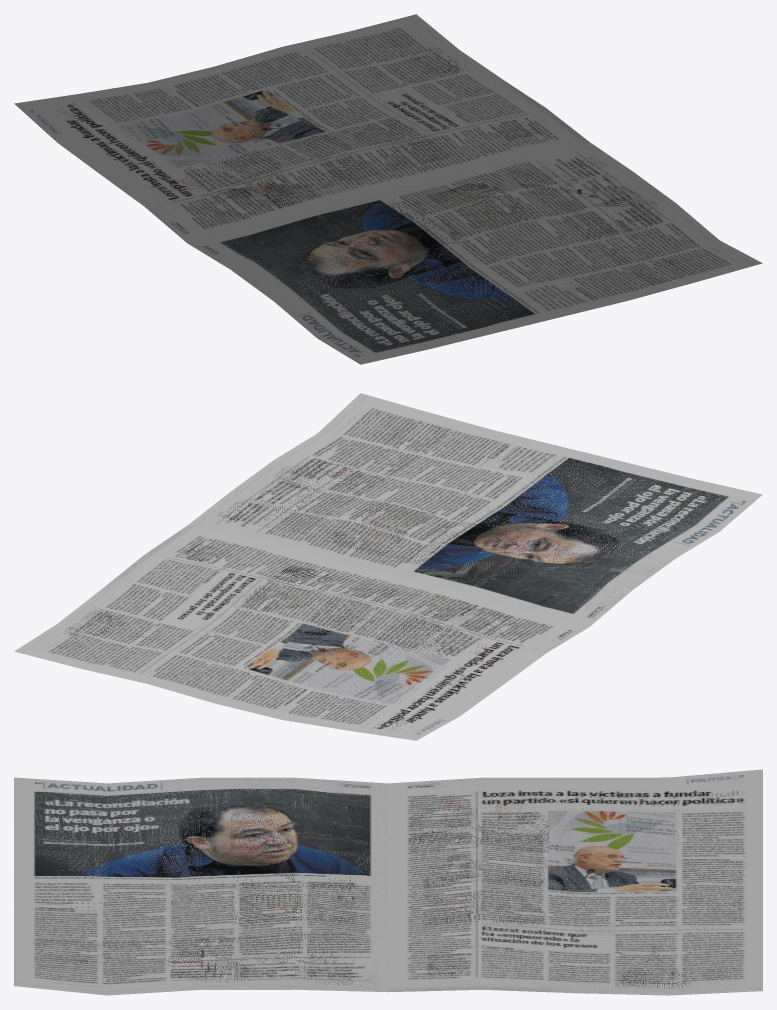
File: periodico.fbx
3 views of the same model, one above another, from view 1: azimuth 30°, elevation 25°; view 2: azimuth 150°, elevation 25°; view 3: azimuth 270°, elevation 25° (orthographic). The views are drawn at different scales.
Parts seen in each view (by area): view 1: periodico; view 2: periodico; view 3: periodico.
Boxes of the visible parts, x1,y1,x2,y2 form: periodico: (14, 14, 762, 364); periodico: (14, 393, 762, 740); periodico: (14, 769, 762, 995).
Size of the model in its own units: 31.5 by 0.9675 by 47.
